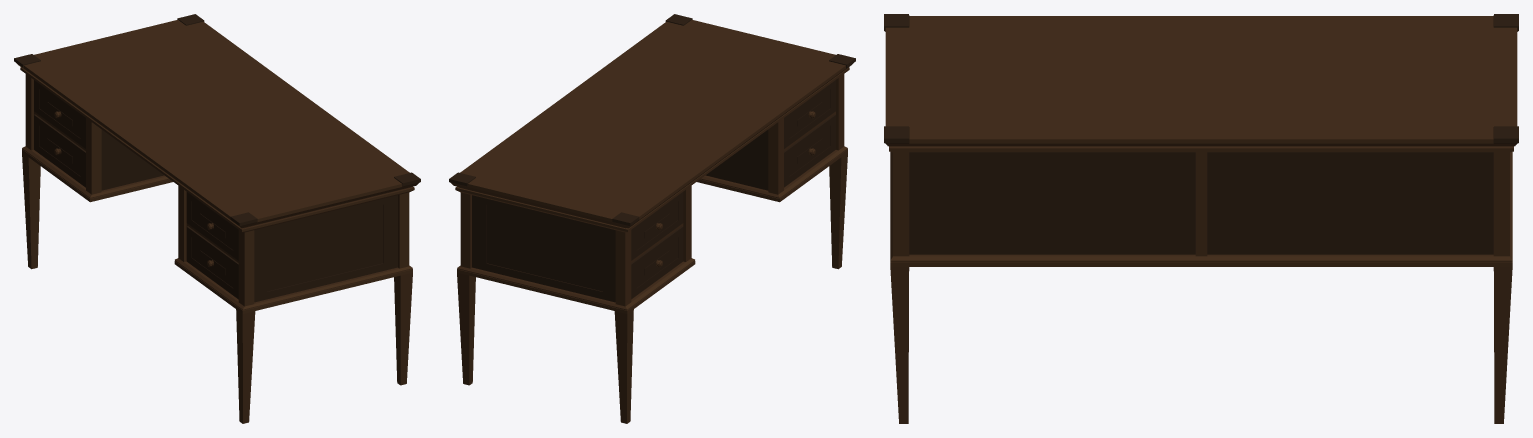
The model's file is Desk.obj.
3 renders of one model, left to right at view 1: azimuth 30°, elevation 25°; view 2: azimuth 150°, elevation 25°; view 3: azimuth 270°, elevation 25°, orthographic. The views are drawn at different scales.
Visible parts, largest first — view 1: Desk_Cube.004, Desk_Drawer2_Cube.005, Desk_Drawer4_Cube.006, Desk_Drawer1_Cube.002, Desk_Drawer3_Cube.007; view 2: Desk_Cube.004, Desk_Drawer4_Cube.006, Desk_Drawer2_Cube.005, Desk_Drawer3_Cube.007, Desk_Drawer1_Cube.002; view 3: Desk_Cube.004.
Part boxes in pixels (x1,y1,x2,y2): Desk_Cube.004: (14, 14, 420, 423); Desk_Drawer2_Cube.005: (186, 226, 238, 298); Desk_Drawer4_Cube.006: (34, 114, 85, 187); Desk_Drawer1_Cube.002: (186, 192, 238, 260); Desk_Drawer3_Cube.007: (34, 80, 85, 148); Desk_Cube.004: (449, 14, 855, 423); Desk_Drawer4_Cube.006: (631, 226, 683, 298); Desk_Drawer2_Cube.005: (784, 114, 835, 187); Desk_Drawer3_Cube.007: (631, 192, 683, 260); Desk_Drawer1_Cube.002: (784, 80, 835, 148); Desk_Cube.004: (884, 14, 1518, 423).
Size of the model in its own units: 0.4468 by 0.4869 by 0.9618.
